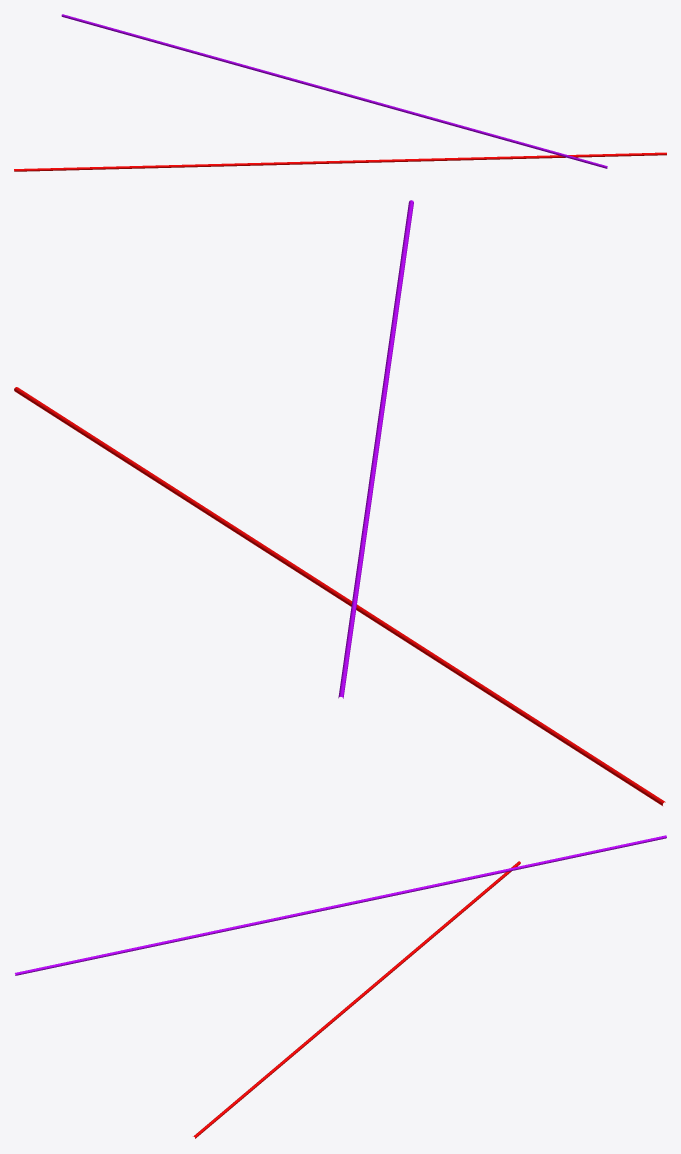
3 views of the same model, one above another, from view 1: azimuth 30°, elevation 25°; view 2: azimuth 150°, elevation 25°; view 3: azimuth 270°, elevation 25° (orthographic). The views are drawn at different scales.
Parts seen in each view (by area): view 1: f, j; view 2: f, j; view 3: j, f.
Part boxes in pixels (box(x1,y1,x2,y2)): f: box(14, 152, 666, 171); j: box(61, 14, 607, 168); f: box(14, 387, 665, 805); j: box(338, 200, 413, 698); j: box(15, 835, 666, 975); f: box(193, 861, 520, 1138).
Bounding box in the file's own units: 0.202 × 0.031 × 0.202.
